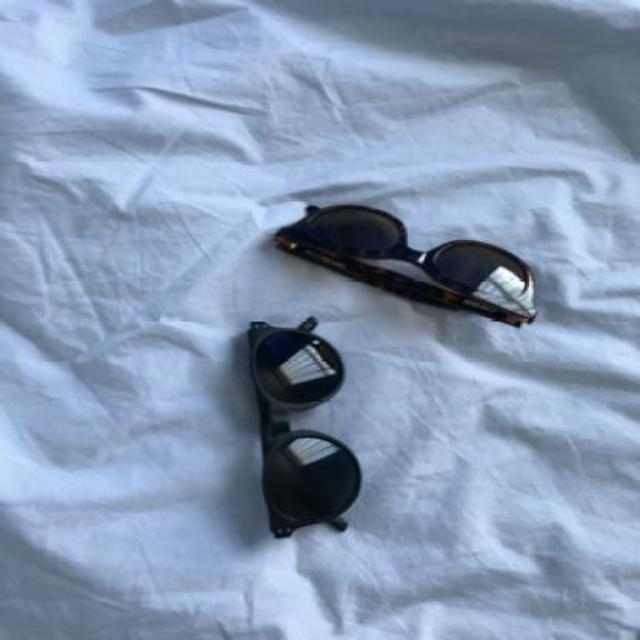glasses: (271, 203, 541, 327), (246, 316, 362, 540)
